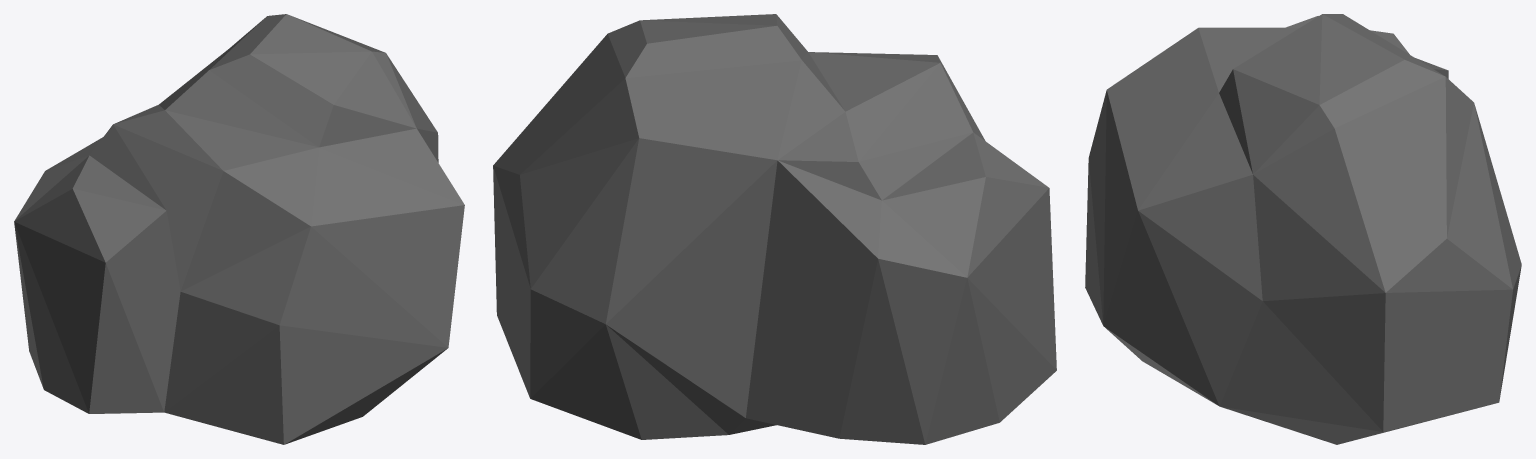
Rendered from rock__rock2_natural_medium.glb.
3 views of the same model, side by side, from view 1: azimuth 30°, elevation 25°; view 2: azimuth 150°, elevation 25°; view 3: azimuth 270°, elevation 25° (orthographic). The views are drawn at different scales.
Visible parts, largest first — view 1: rock2.natural.medium; view 2: rock2.natural.medium; view 3: rock2.natural.medium.
Boxes of the visible parts, x1=… form: rock2.natural.medium: x1=14, y1=14, x2=464, y2=444; rock2.natural.medium: x1=493, y1=14, x2=1056, y2=444; rock2.natural.medium: x1=1085, y1=14, x2=1521, y2=444.
Size of the model in its own units: 3.5 by 2.59 by 2.93.
1 material, 1 textured.
